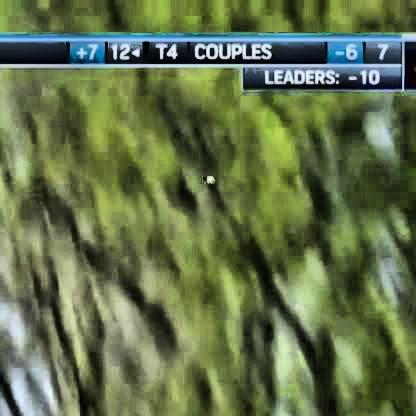golfball: (203, 171, 210, 181)
